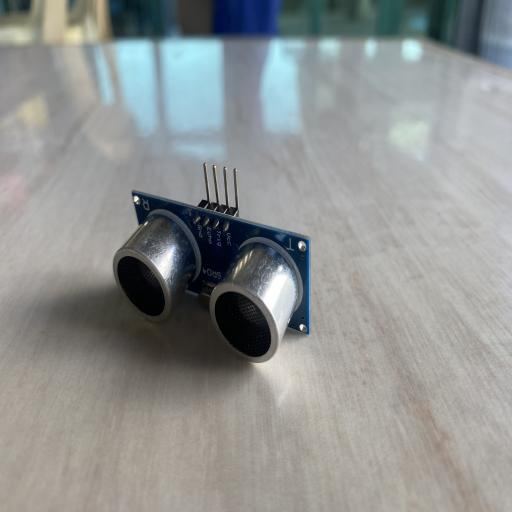Ultrasonic Sensor: (112, 162, 312, 364)
